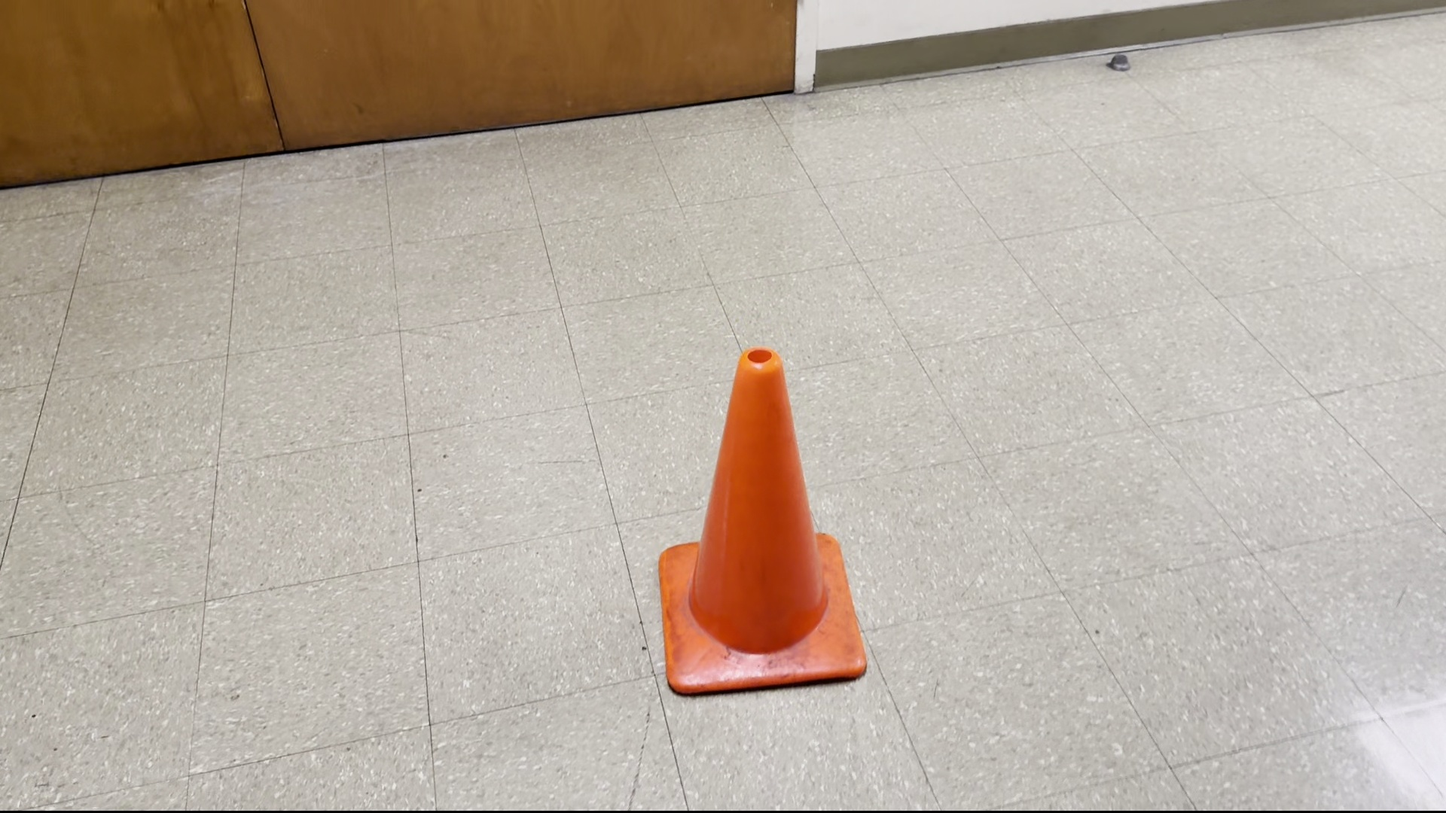traffic_cone: (657, 346, 867, 696)
